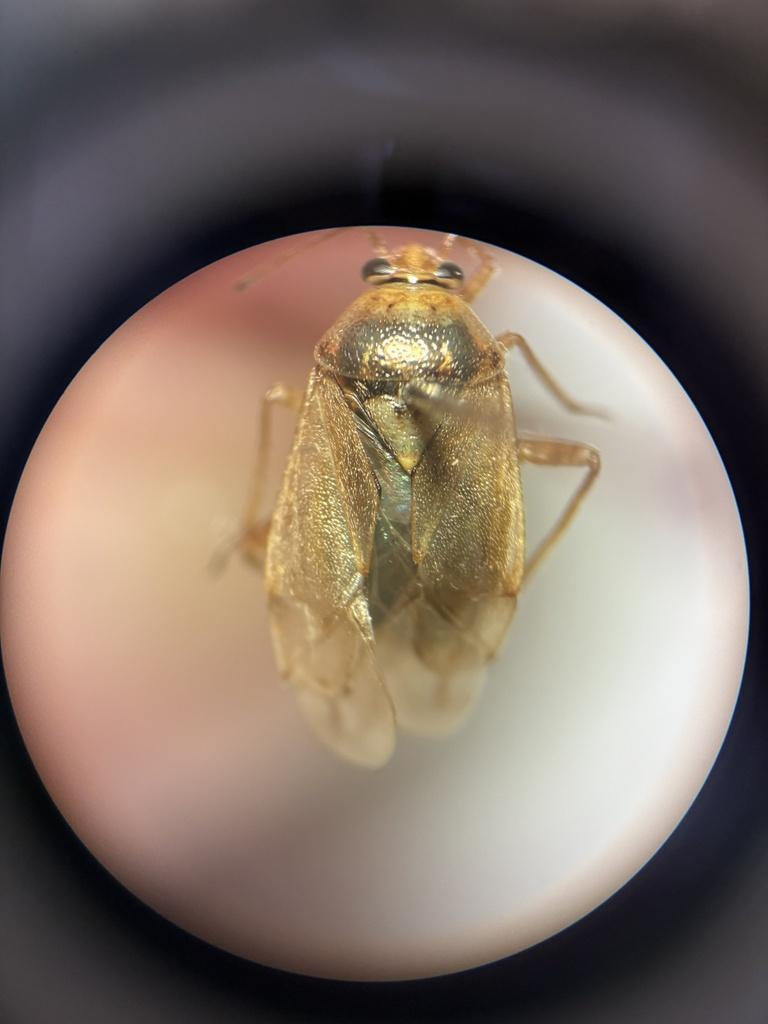plant_bugs: (150, 172, 687, 848)
